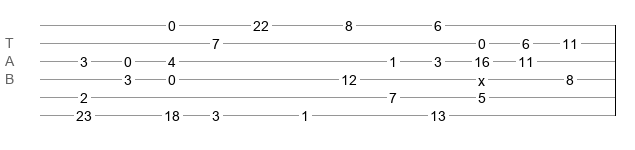0: (124, 54, 132, 64), (168, 18, 176, 28), (168, 72, 176, 82), (478, 36, 486, 46)
1: (301, 108, 309, 118), (389, 54, 397, 64)
11: (518, 54, 534, 64), (562, 36, 578, 46)
12: (341, 72, 357, 82)
13: (430, 108, 446, 118)
16: (474, 54, 490, 64)
18: (164, 108, 180, 118)
2: (80, 90, 88, 100)
22: (253, 18, 269, 28)
23: (76, 108, 92, 118)
3: (80, 54, 88, 64), (124, 72, 132, 82), (212, 108, 220, 118), (434, 54, 442, 64)
4: (168, 54, 176, 64)
5: (478, 90, 486, 100)
6: (434, 18, 442, 28), (522, 36, 530, 46)
7: (212, 36, 220, 46), (389, 90, 397, 100)
8: (345, 18, 353, 28), (566, 72, 574, 82)
x: (478, 73, 485, 81)
